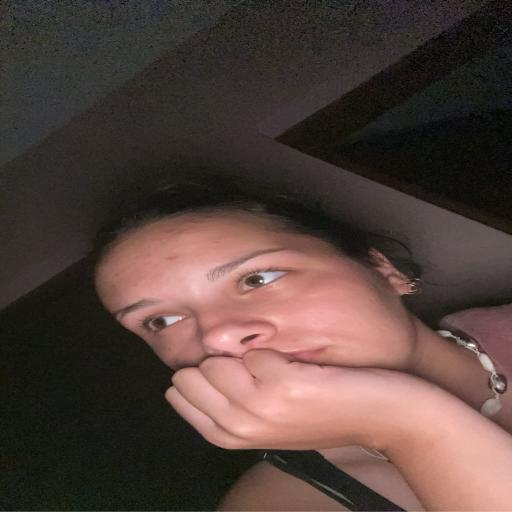marija: (95, 212, 412, 384)
